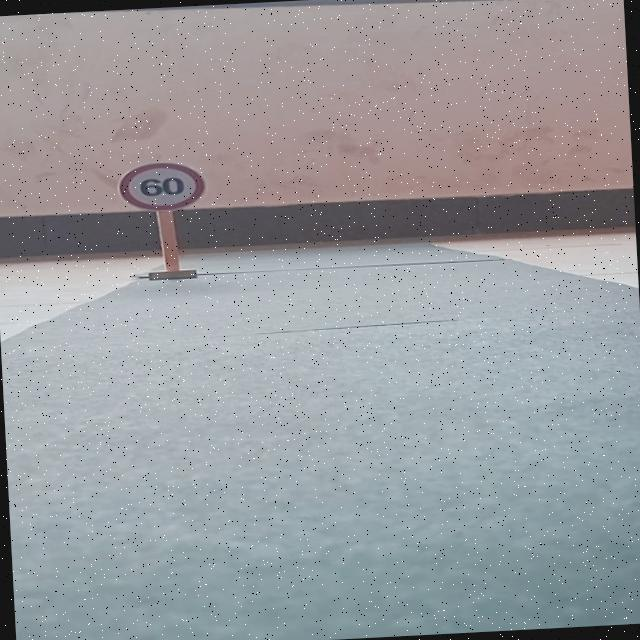Speed60: (118, 158, 208, 216)
